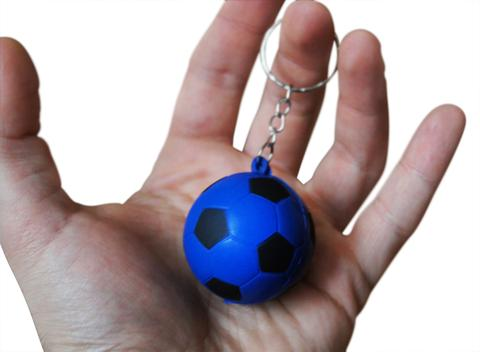blue ball: (183, 174, 317, 303)
